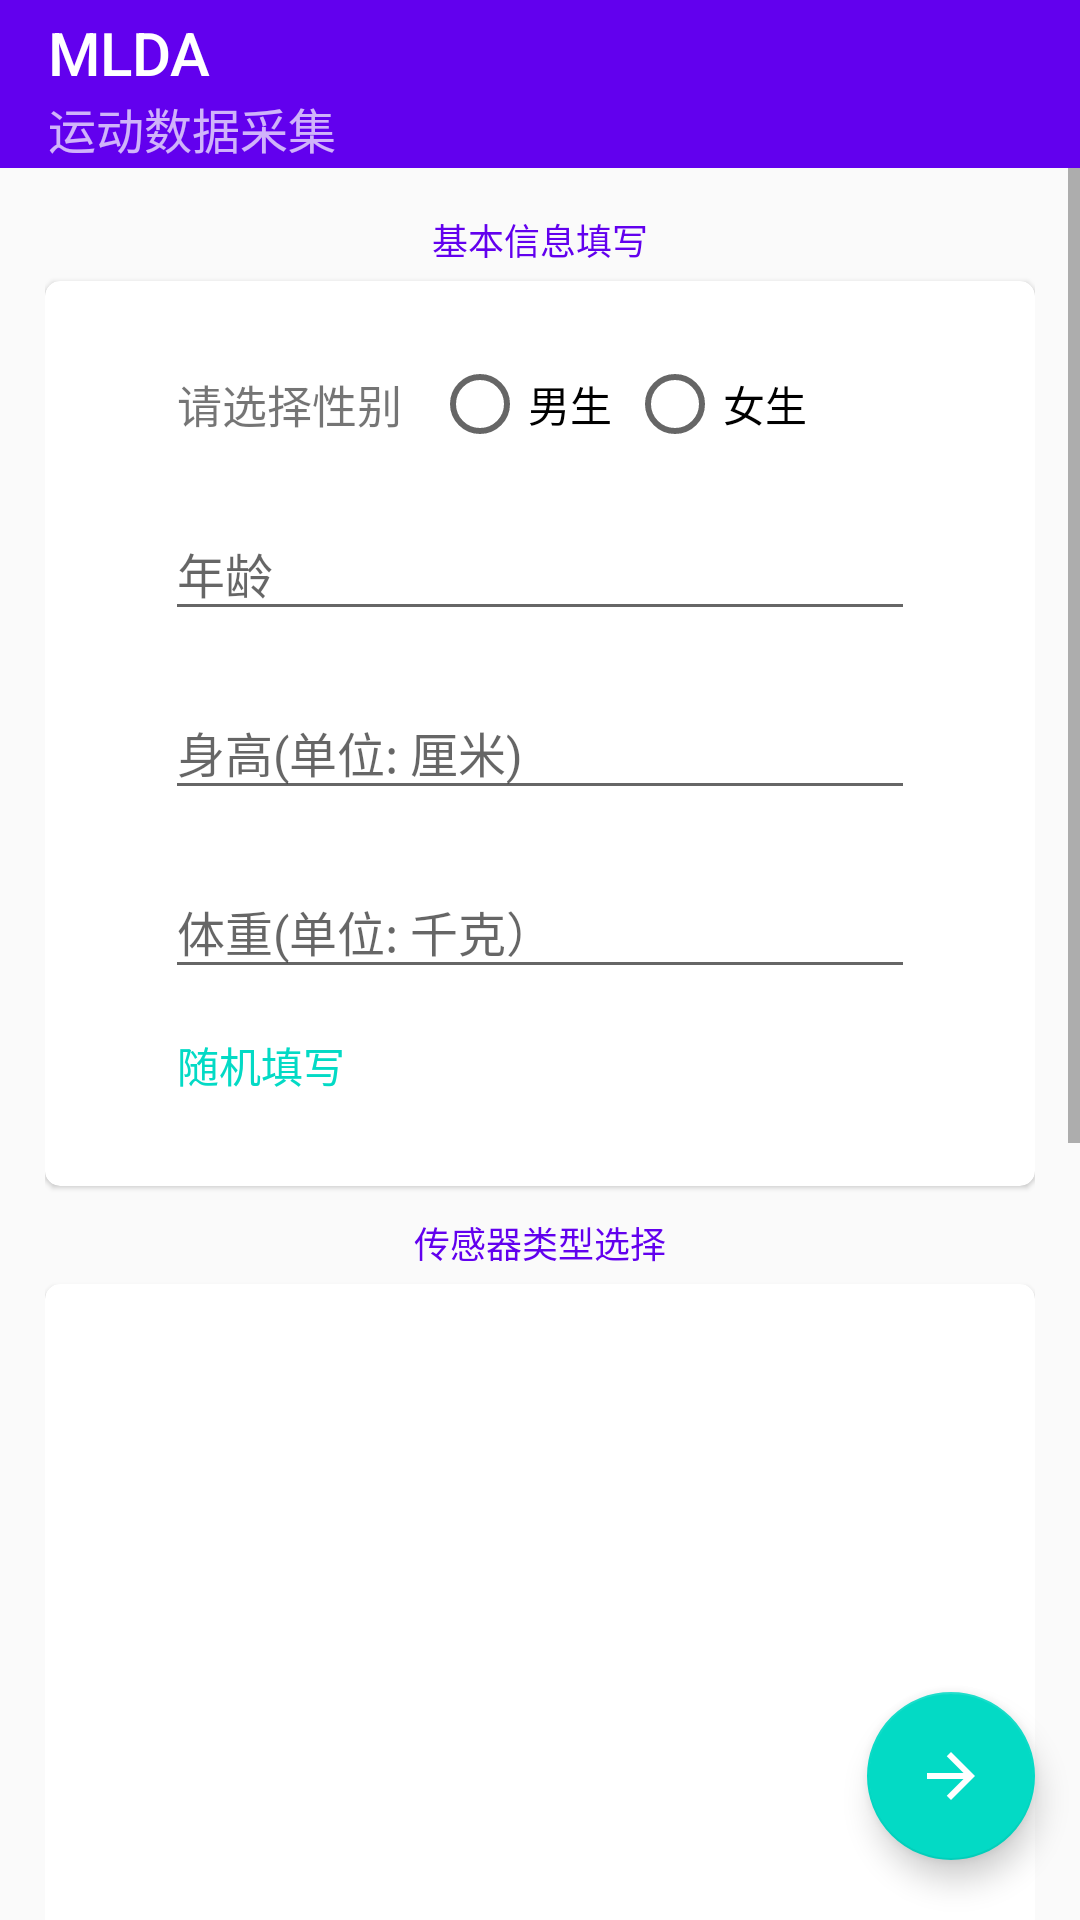

Icons on this 1080px x 1920px Android screen, each with its box as (x1, y1, x2, y2):
arrow forward: (867, 1692, 1035, 1860)
